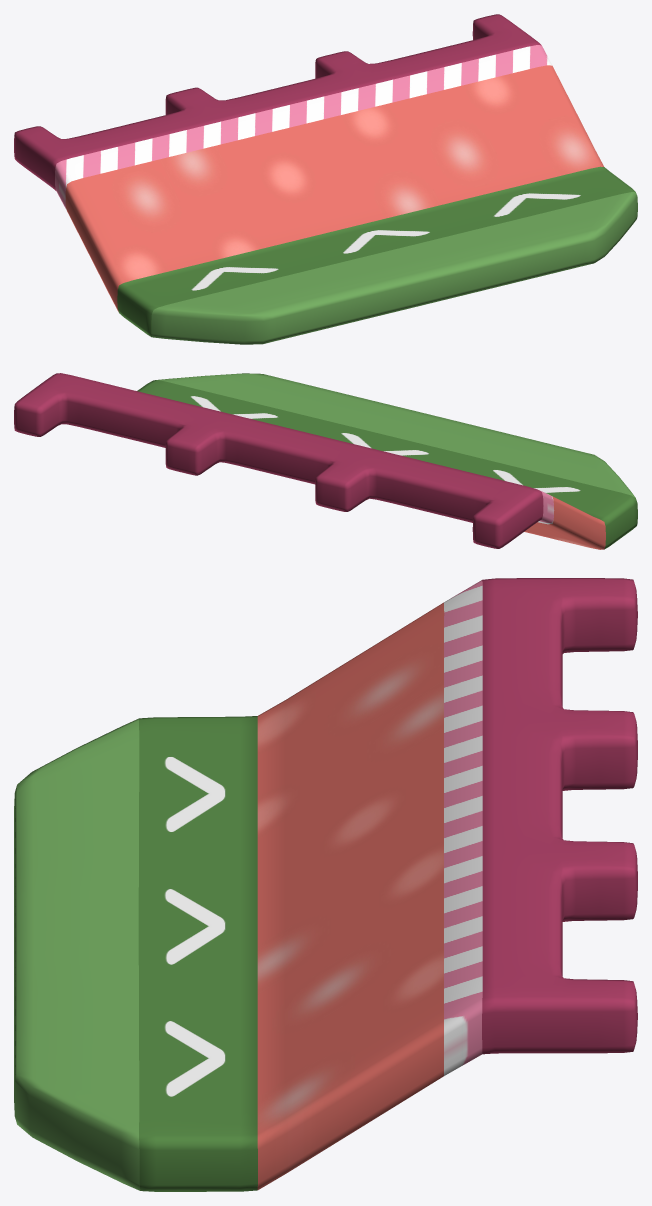
The model's file is sector5.fbx.
The picture shows the model from 3 angles, top to bottom: view 1: azimuth 30°, elevation 25°; view 2: azimuth 150°, elevation 25°; view 3: azimuth 270°, elevation 25°; orthographic projection. The views are drawn at different scales.
Visible parts, largest first — view 1: sector5; view 2: sector5; view 3: sector5.
Boxes of the visible parts, x1,y1,x2,y2 form: sector5: (14,14,637,344); sector5: (14,373,637,549); sector5: (14,578,637,1191).
Bounding box in the file's own units: 121 × 25.71 × 74.45.
Materials: 1 (1 with a texture image).
